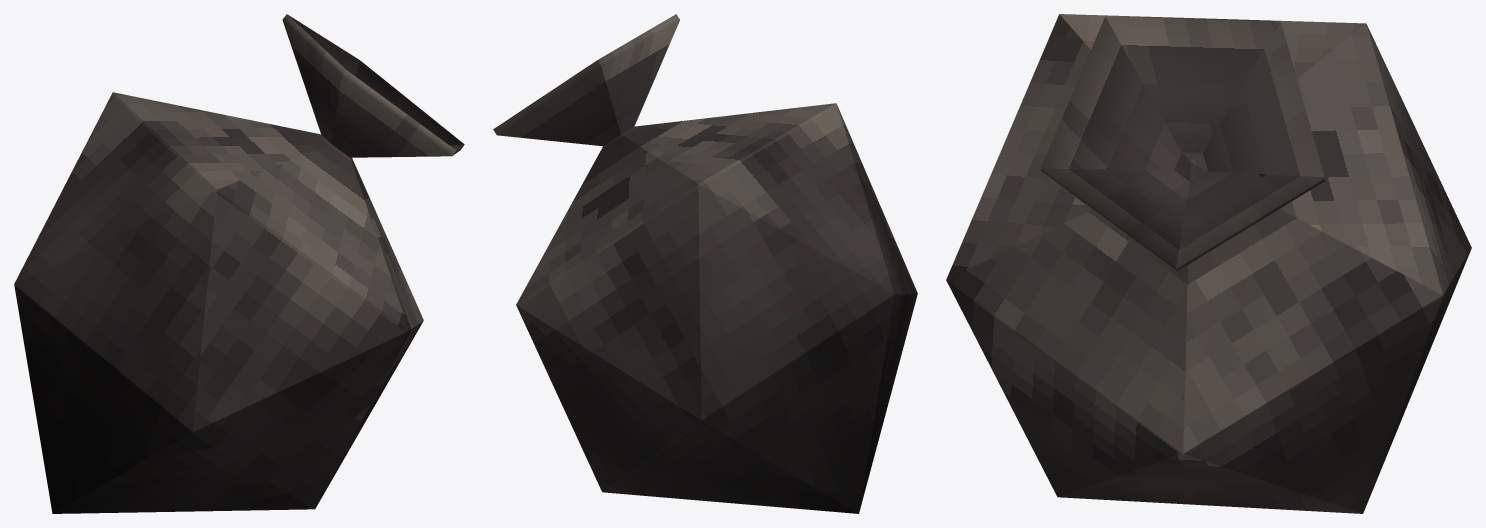
The model's file is Trash_bag_01.fbx.
3 renders of one model, left to right at view 1: azimuth 30°, elevation 25°; view 2: azimuth 150°, elevation 25°; view 3: azimuth 270°, elevation 25°, orthographic. The views are drawn at different scales.
Visible parts, largest first — view 1: Trashbag; view 2: Trashbag; view 3: Trashbag.
Boxes of the visible parts, <box> form: Trashbag: <box>14,14,464,513</box>; Trashbag: <box>493,14,917,513</box>; Trashbag: <box>946,14,1471,513</box>.
Bounding box in the file's own units: 67.12 × 63.8 × 57.87.
1 material, 1 textured.
